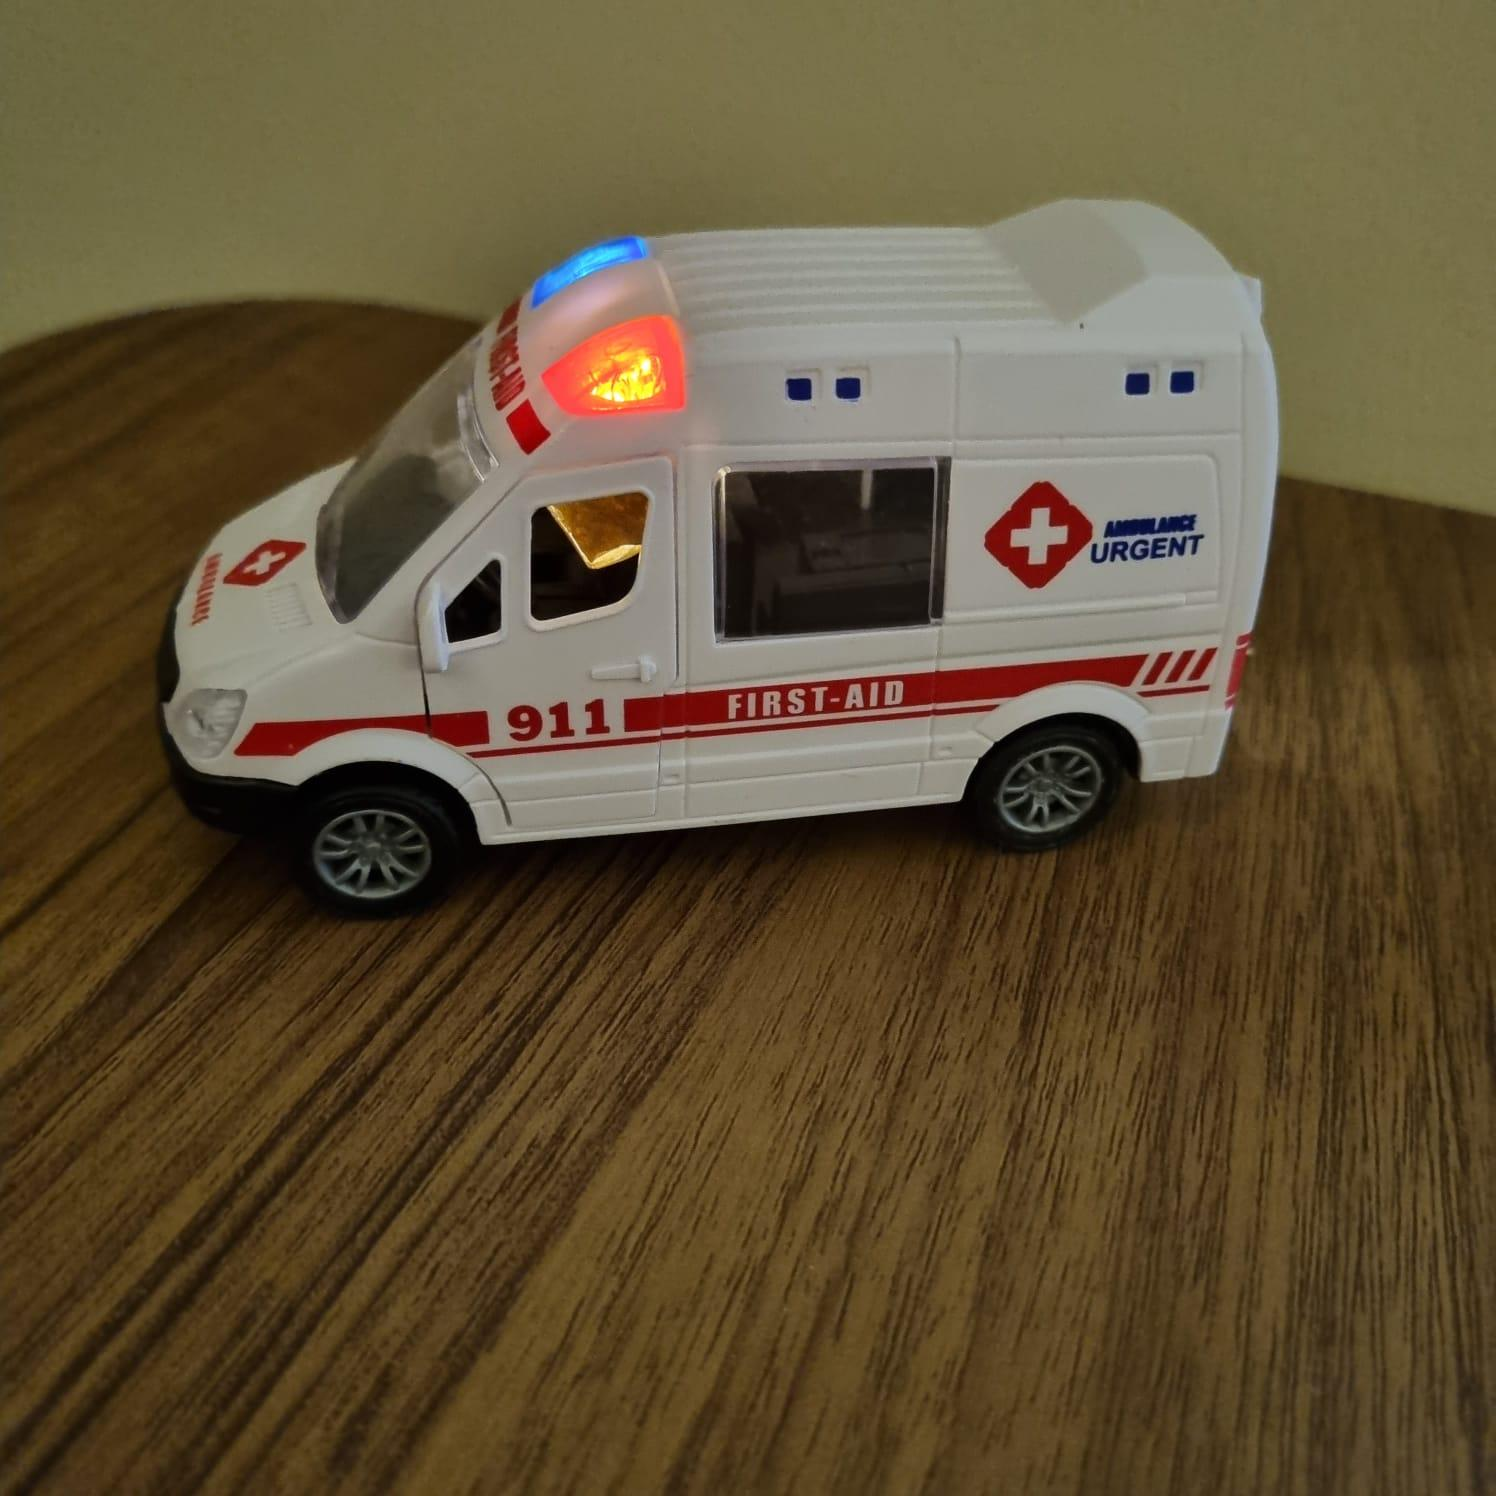ambulance_on: (151, 195, 1281, 903)
